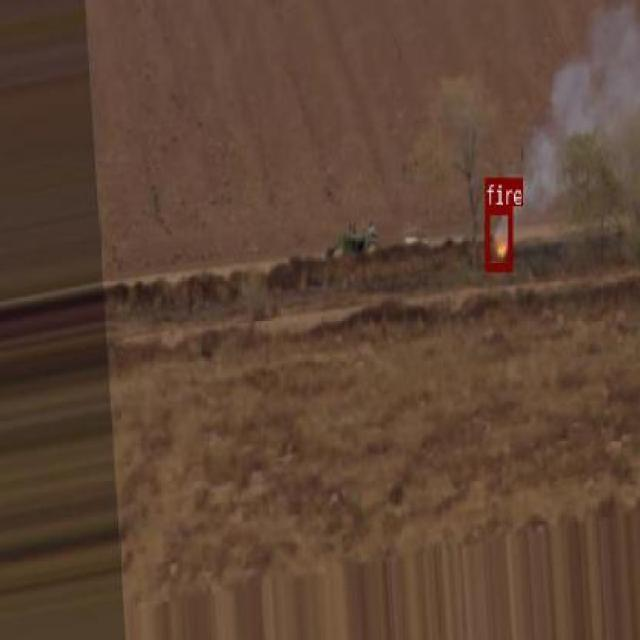Fire: (28, 63, 498, 238)
